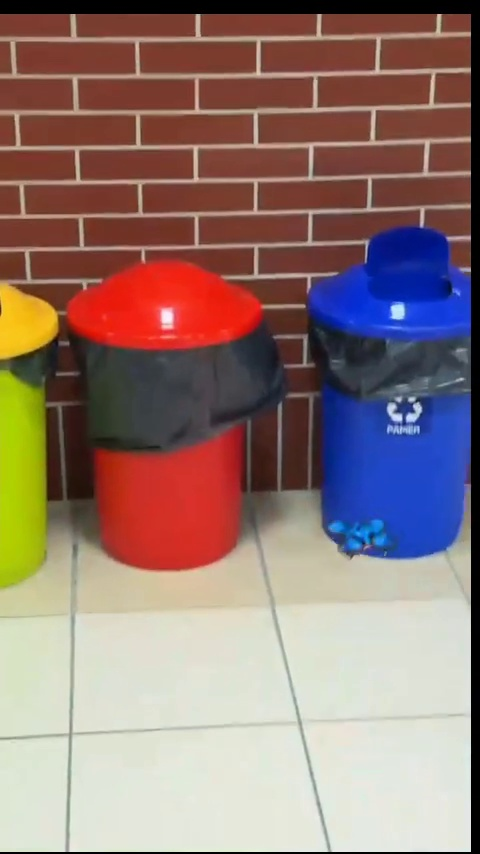drone: (325, 519, 395, 562)
